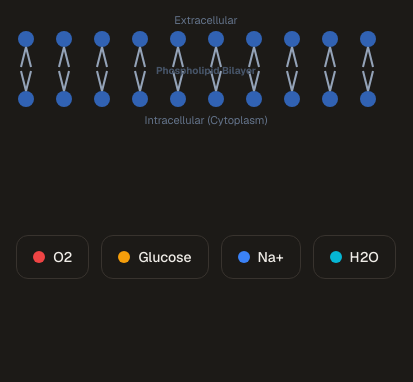
Scenario: CellMembrane › shows correct result for sodium (active transport)
This screenshot has width=413, height=382.
Click the button "Na+": (261, 257) left=220, top=235, right=301, bottom=279
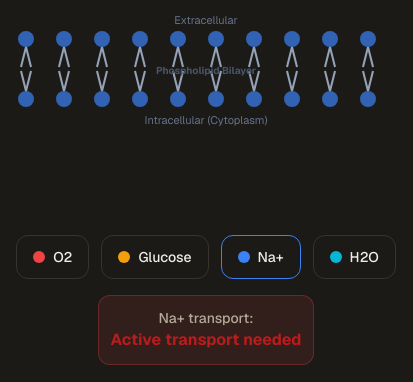
Now the text "Active transport needed" is shown, box left=111, top=328, right=301, bottom=352
